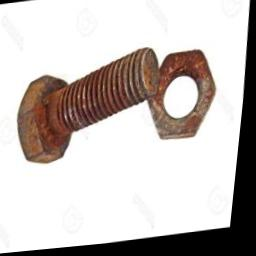Corroded-Bolt: (21, 49, 161, 165)
Corroded-Nut: (150, 53, 219, 143)
